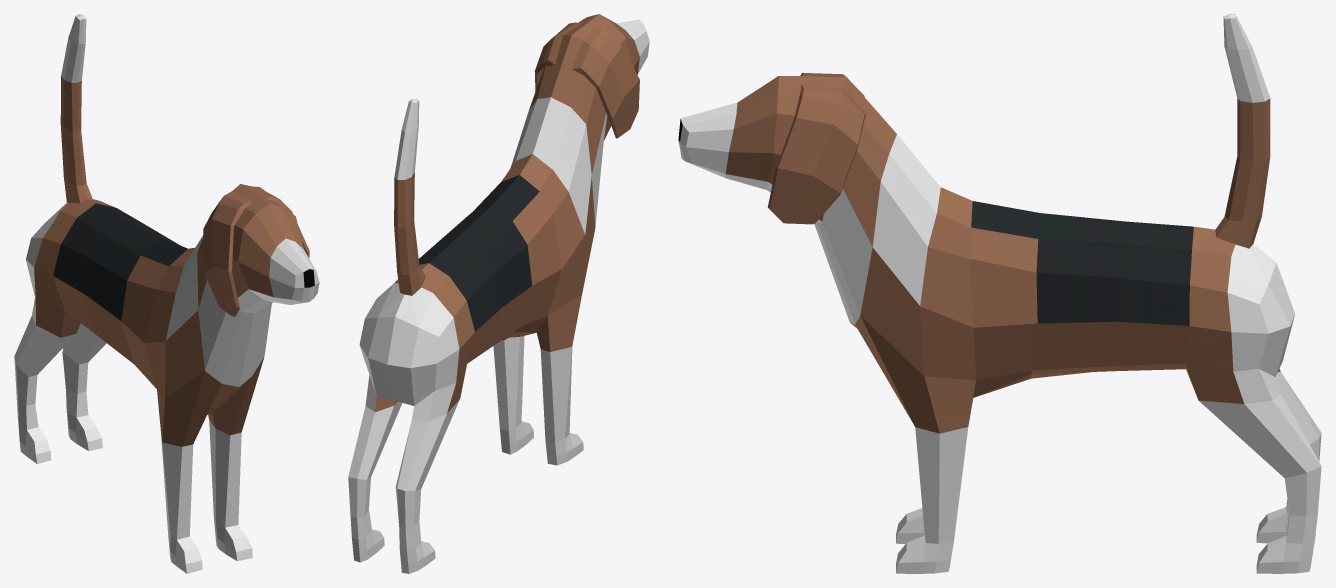
The model's file is beagle.glb.
The picture shows the model from 3 angles, left to right: view 1: azimuth 30°, elevation 25°; view 2: azimuth 150°, elevation 25°; view 3: azimuth 270°, elevation 25°; orthographic projection. The views are drawn at different scales.
Visible parts, largest first — view 1: 20dogFinal; view 2: 20dogFinal; view 3: 20dogFinal.
Part boxes in pixels (x1,y1,x2,y2): 20dogFinal: (14, 14, 319, 573); 20dogFinal: (348, 14, 649, 573); 20dogFinal: (678, 14, 1321, 573).
Size of the model in its own units: 0.2365 by 1.1 by 1.18.
1 material, 1 textured.
